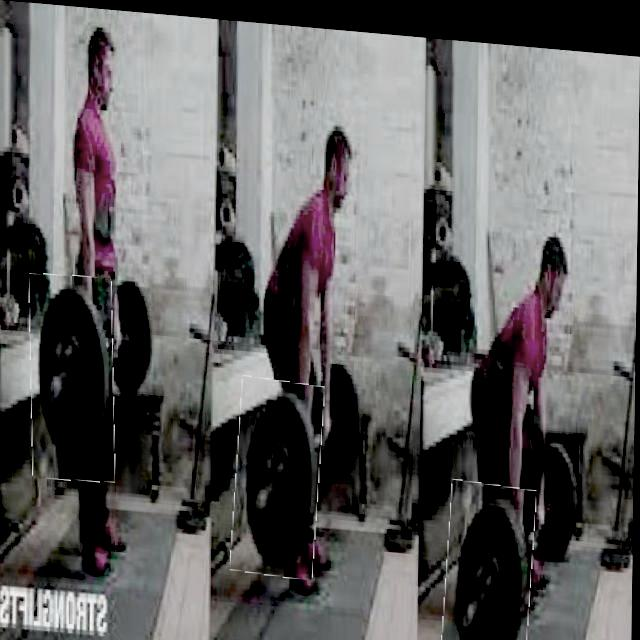barbell: (30, 272, 118, 482), (235, 372, 324, 575), (445, 472, 537, 640)
